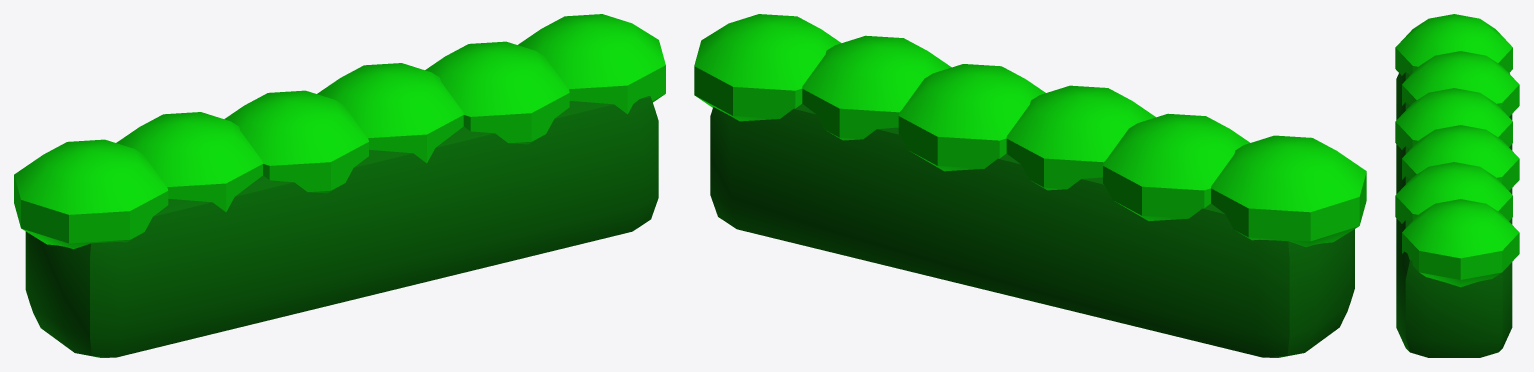
File: Hedge.fbx
3 renders of one model, left to right at view 1: azimuth 30°, elevation 25°; view 2: azimuth 150°, elevation 25°; view 3: azimuth 270°, elevation 25°, orthographic. The views are drawn at different scales.
Visible parts, largest first — view 1: Hedge; view 2: Hedge; view 3: Hedge.
Boxes of the visible parts, <box> form: Hedge: <box>14,14,665,357</box>; Hedge: <box>694,14,1366,357</box>; Hedge: <box>1395,14,1519,357</box>.
Bounding box in the file's own units: 4.35 × 1.25 × 0.963.
